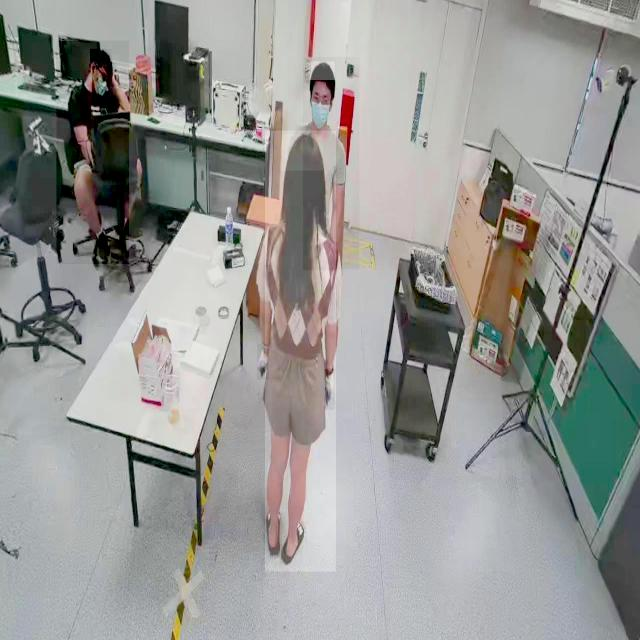face_mask: (312, 92, 330, 132), (92, 66, 110, 106)
hand_glove: (257, 344, 269, 380), (325, 369, 335, 411)
hand_noglove: (108, 63, 116, 88)
head_nohelmet: (282, 134, 324, 172), (309, 61, 335, 81), (90, 49, 112, 62)
person: (265, 130, 337, 572), (56, 41, 130, 265), (303, 57, 360, 270)
